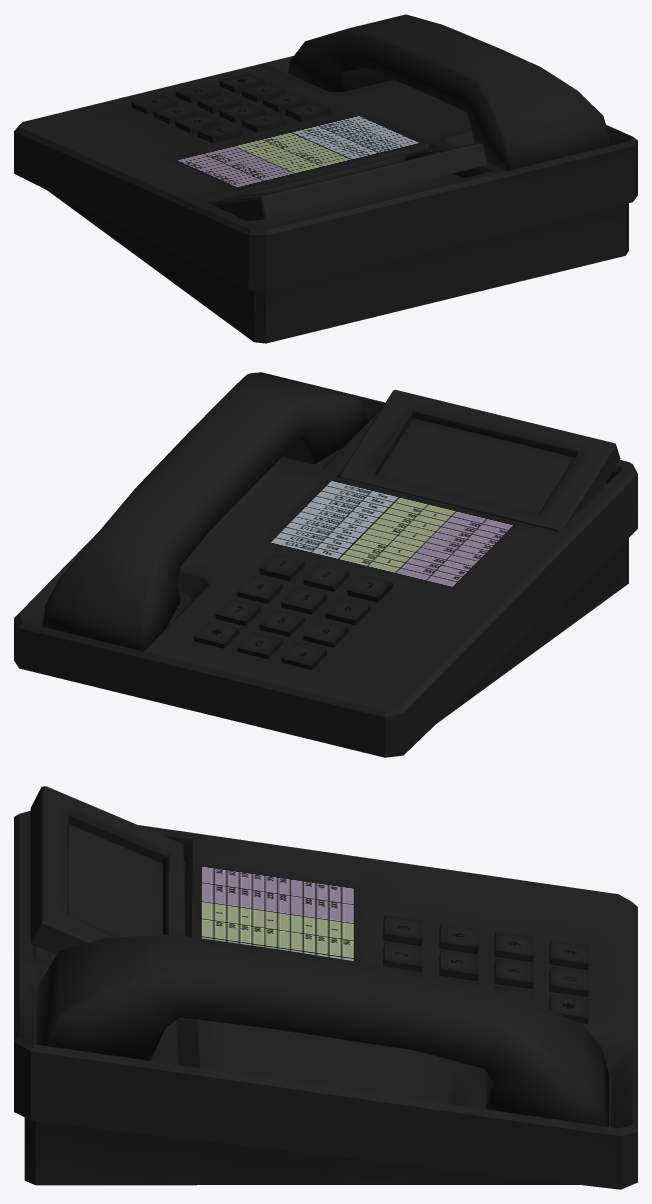
File: Telephone.FBX
3 views of the same model, one above another, from view 1: azimuth 30°, elevation 25°; view 2: azimuth 150°, elevation 25°; view 3: azimuth 270°, elevation 25° (orthographic). The views are drawn at different scales.
Visible parts, largest first — view 1: Box152; view 2: Box152; view 3: Box152.
Part boxes in pixels (x1,y1,x2,y2): Box152: (14,14,637,343); Box152: (14,372,637,757); Box152: (14,786,637,1189).
Size of the model in its own units: 98.86 by 37.2 by 109.
Materials: 1 (1 with a texture image).
